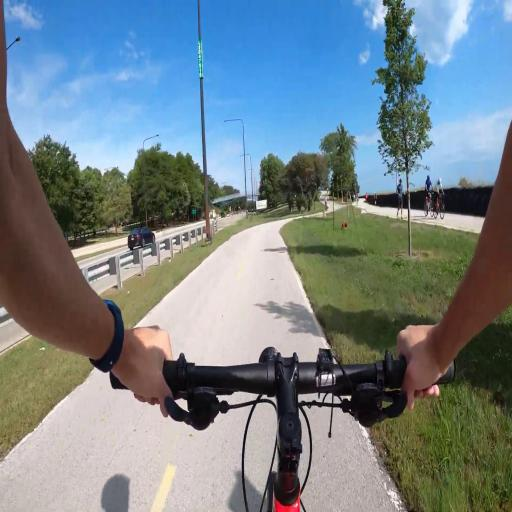Street_Light: (194, 0, 214, 247), (221, 114, 249, 212), (140, 128, 162, 228), (238, 150, 256, 204)
